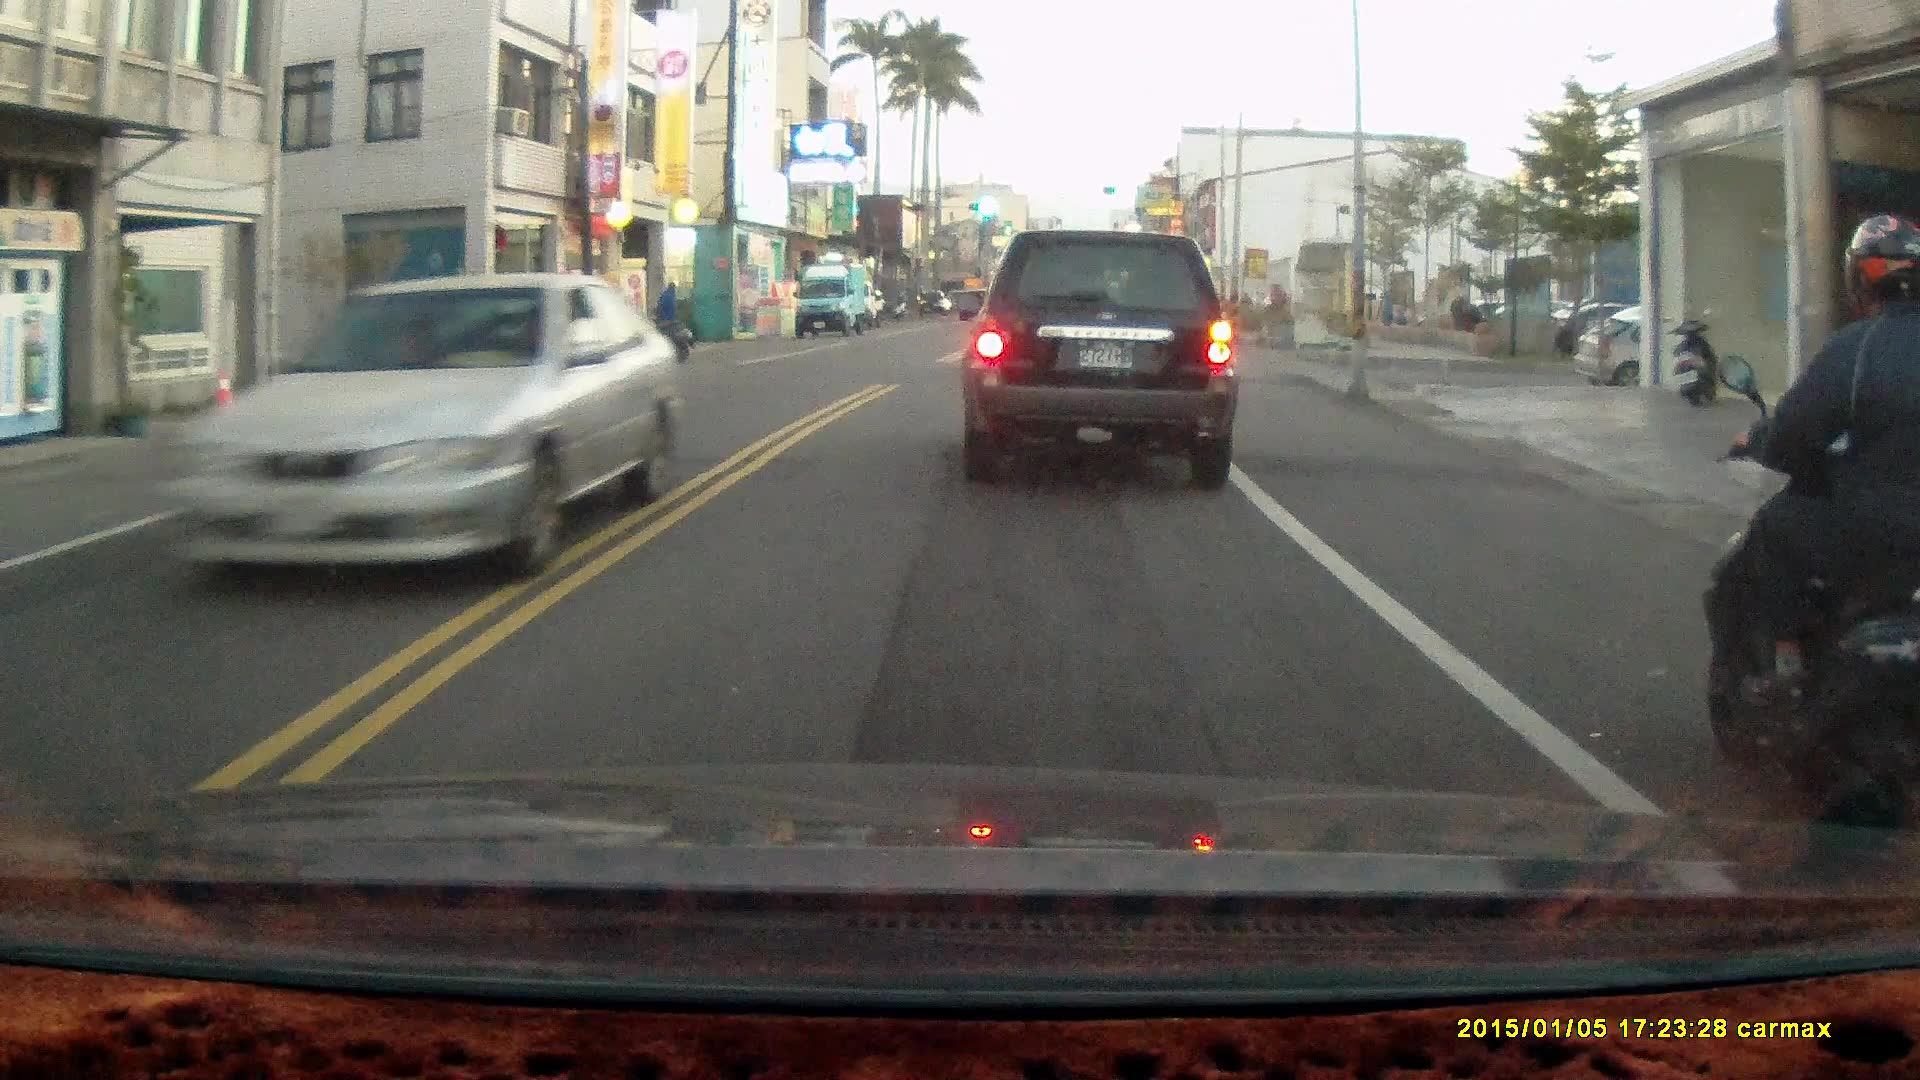pedestrian: (648, 278, 679, 350)
rider: (1695, 211, 1919, 860)
vehicle: (164, 271, 687, 589), (966, 228, 1244, 494), (1572, 319, 1783, 396), (795, 266, 873, 344)
